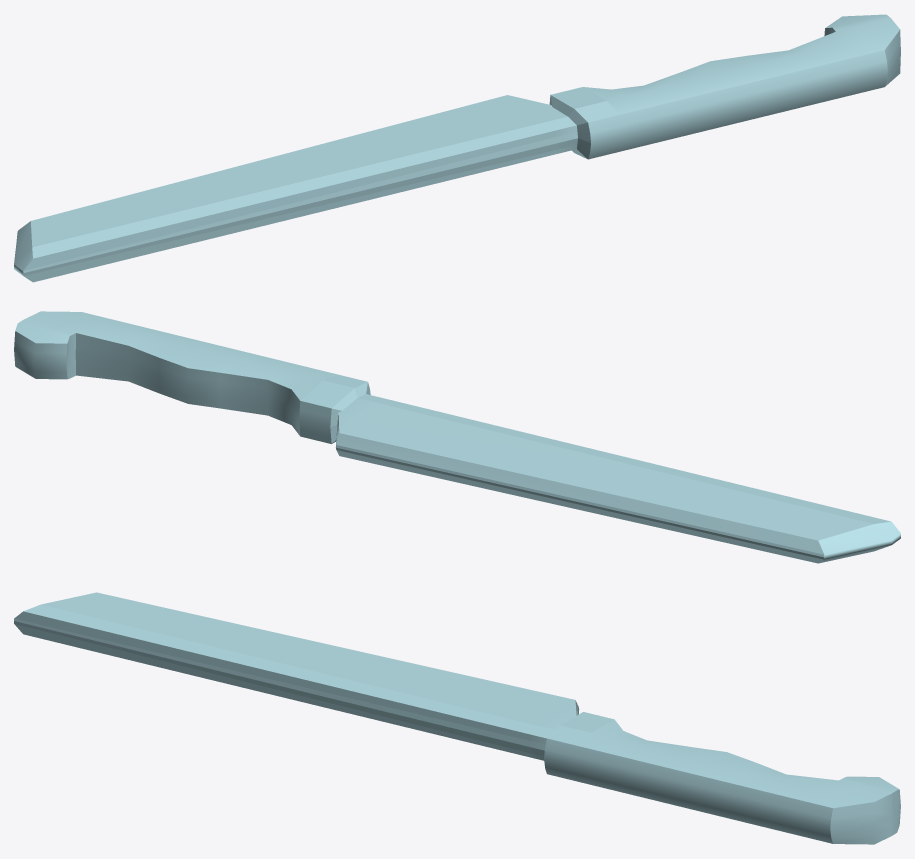
The model's file is Cuchillo_003.fbx.
3 renders of one model, top to bottom at view 1: azimuth 30°, elevation 25°; view 2: azimuth 150°, elevation 25°; view 3: azimuth 330°, elevation 25°, orthographic. The views are drawn at different scales.
Parts seen in each view (by area): view 1: Cuchillo_003; view 2: Cuchillo_003; view 3: Cuchillo_003.
Boxes of the visible parts, x1,y1,x2,y2 form: Cuchillo_003: [14, 14, 900, 282]; Cuchillo_003: [14, 311, 900, 563]; Cuchillo_003: [14, 592, 900, 844].
Bounding box in the file's own units: 0.0168 × 0.000797 × 0.00203.
